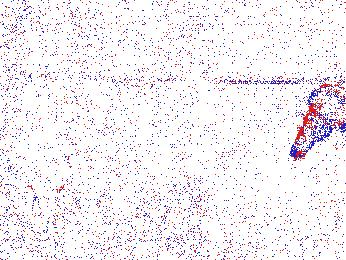flame jellyfish: (290, 85, 346, 157), (48, 184, 95, 230), (88, 185, 135, 230)
